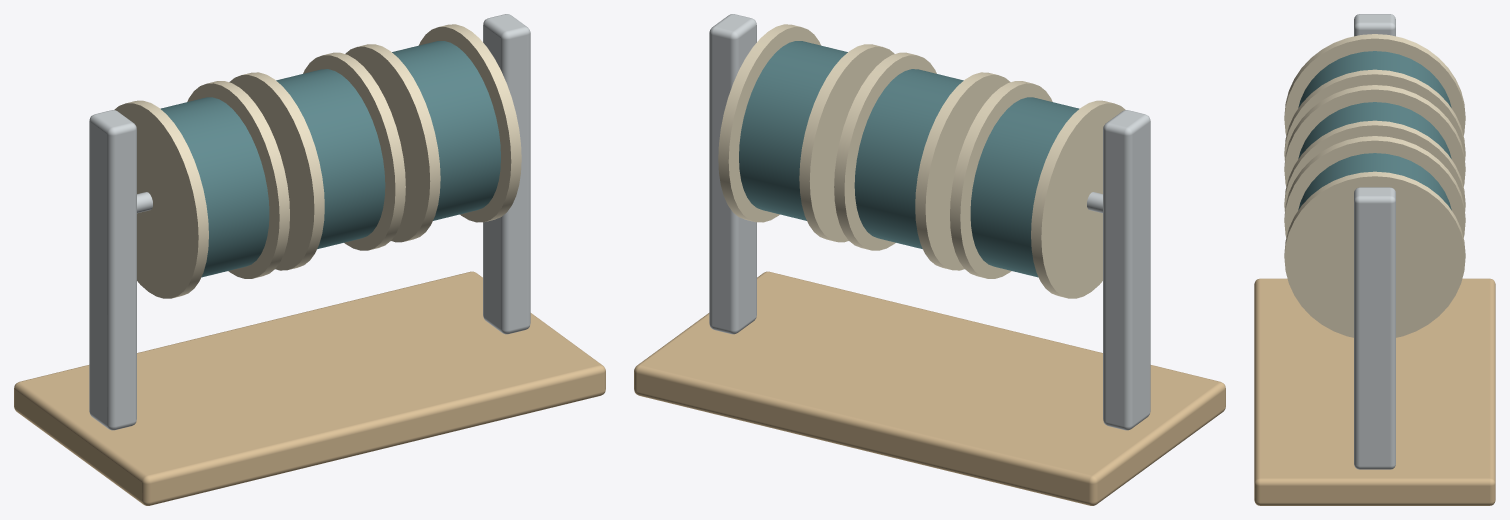
File: candlemaking-and-soap-workshop-ribbon-spool-stand-ec94b17c__30690.glb
3 renders of one model, left to right at view 1: azimuth 30°, elevation 25°; view 2: azimuth 150°, elevation 25°; view 3: azimuth 270°, elevation 25°, orthographic. The views are drawn at different scales.
Visible parts, largest first — view 1: ribbon-spool-stand; view 2: ribbon-spool-stand; view 3: ribbon-spool-stand.
Boxes of the visible parts, x1,y1,x2,y2 form: ribbon-spool-stand: (14, 14, 605, 505); ribbon-spool-stand: (634, 14, 1225, 505); ribbon-spool-stand: (1254, 14, 1495, 505).
Size of the model in its own units: 0.4 by 0.275 by 0.2.
